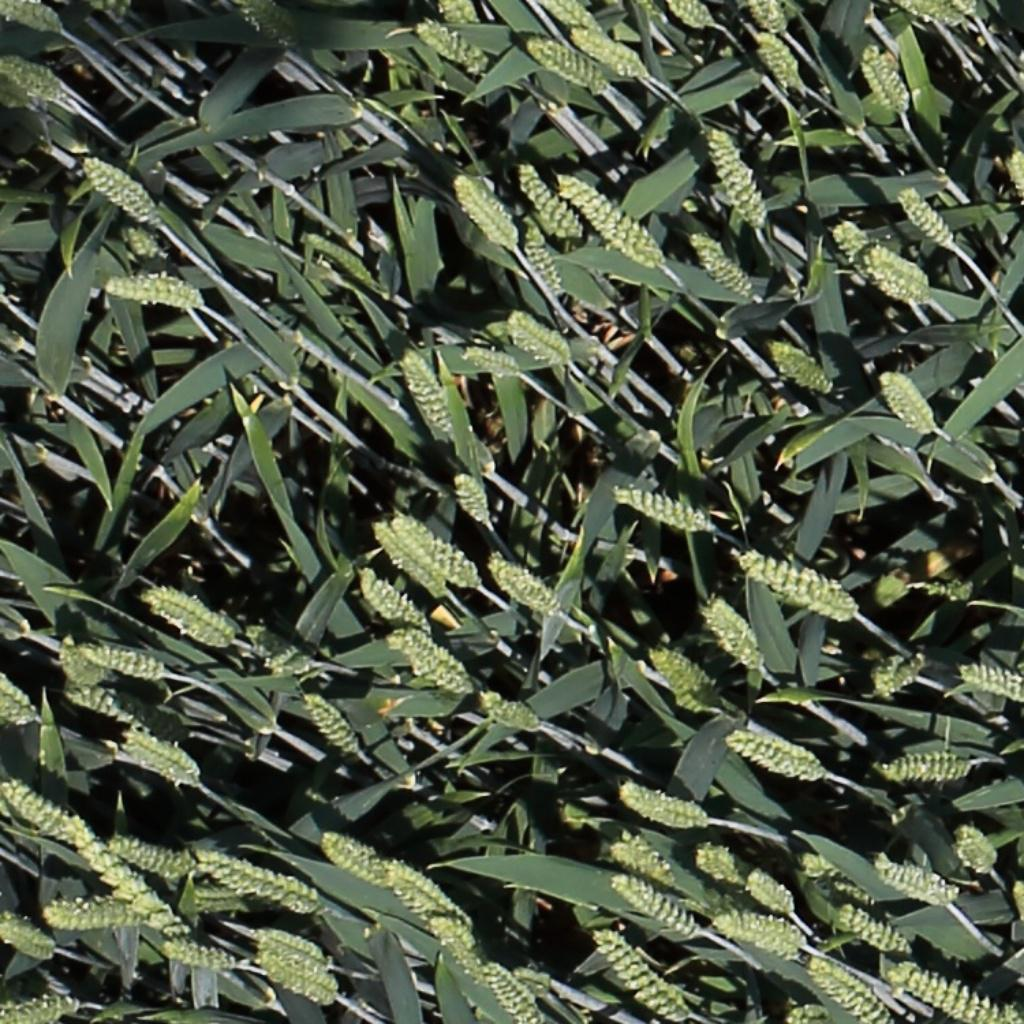0-0: (60, 820, 195, 941), (77, 154, 184, 300), (557, 169, 660, 264), (589, 927, 685, 1019), (735, 552, 854, 615), (382, 514, 479, 591), (191, 856, 319, 913), (703, 120, 768, 230), (901, 967, 1022, 1024), (368, 520, 451, 600), (828, 220, 908, 297), (445, 167, 518, 251), (140, 589, 245, 647), (64, 688, 176, 741), (510, 155, 581, 238), (395, 344, 454, 441), (608, 876, 696, 940), (424, 913, 490, 996), (685, 230, 755, 301), (2, 779, 76, 846), (353, 567, 427, 634), (813, 960, 890, 1024), (699, 600, 764, 673), (297, 690, 360, 763), (875, 365, 939, 436), (723, 734, 821, 780), (611, 486, 708, 532), (895, 181, 958, 251), (486, 555, 558, 615), (522, 39, 604, 91), (303, 232, 376, 290), (318, 834, 393, 890), (253, 951, 333, 1003), (99, 265, 201, 305), (393, 630, 466, 685), (517, 218, 565, 301), (872, 858, 955, 906), (858, 40, 909, 118), (240, 623, 312, 678), (569, 27, 645, 79), (412, 19, 486, 72), (118, 735, 196, 785), (394, 645, 469, 697), (615, 785, 707, 827), (479, 959, 539, 1022), (379, 865, 453, 916), (647, 648, 715, 703), (752, 27, 805, 96), (797, 848, 870, 898), (767, 339, 834, 393), (712, 914, 802, 954), (834, 909, 912, 955), (505, 309, 569, 364), (606, 842, 677, 890), (861, 247, 931, 294), (103, 841, 191, 876), (446, 465, 492, 531), (879, 748, 972, 780), (54, 638, 107, 690), (873, 651, 928, 700), (741, 871, 795, 920), (473, 693, 539, 733), (951, 821, 998, 877), (75, 648, 162, 678), (1, 54, 61, 96), (241, 0, 296, 45), (251, 931, 322, 965), (693, 847, 745, 891), (957, 667, 1024, 701), (155, 940, 232, 969), (0, 921, 55, 958), (1, 0, 61, 32), (460, 346, 521, 375), (1004, 141, 1024, 229), (2, 999, 77, 1022), (40, 910, 139, 927), (746, 0, 789, 39), (546, 0, 595, 32), (1, 673, 34, 719), (902, 0, 962, 25), (669, 0, 714, 28), (436, 0, 477, 30), (1007, 873, 1024, 935), (912, 582, 972, 599), (783, 1004, 830, 1022)
